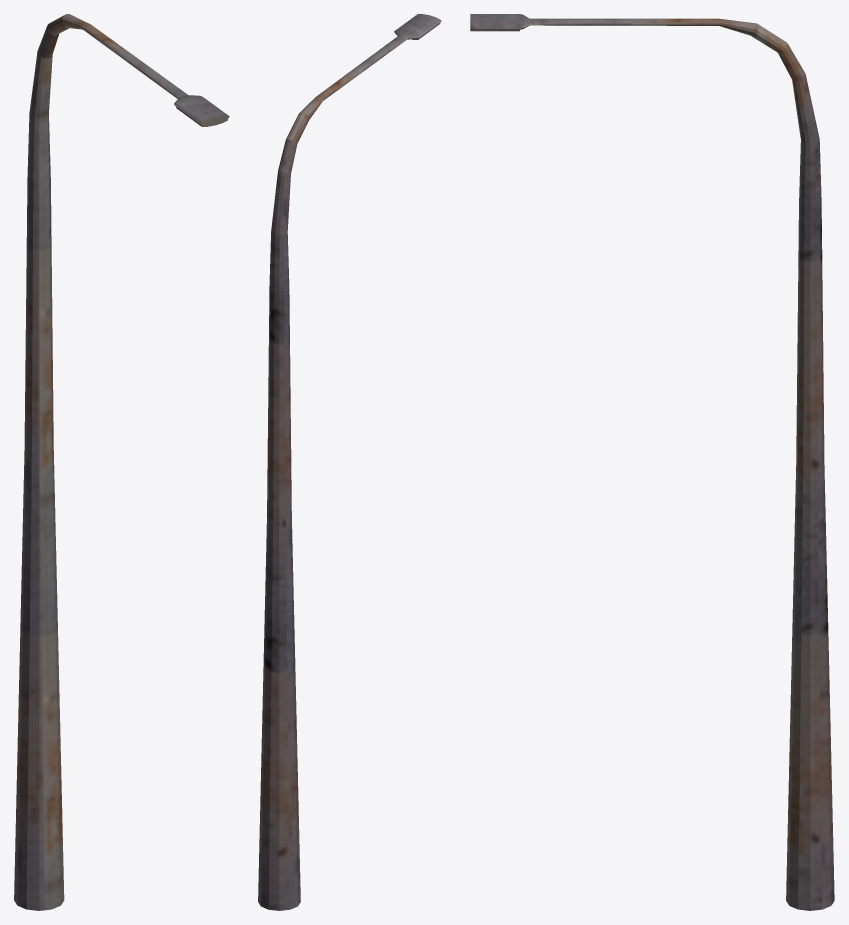
The model's file is postedeluz_sin_Cartel.fbx.
3 renders of one model, left to right at view 1: azimuth 30°, elevation 25°; view 2: azimuth 150°, elevation 25°; view 3: azimuth 270°, elevation 25°, orthographic. The views are drawn at different scales.
Parts seen in each view (by area): view 1: Farol_Calle.002; view 2: Farol_Calle.002; view 3: Farol_Calle.002.
Part boxes in pixels (box(x1,y1,x2,y2)): Farol_Calle.002: box(14, 14, 229, 910); Farol_Calle.002: box(258, 14, 441, 910); Farol_Calle.002: box(470, 14, 834, 910).
Size of the model in its own units: 342 by 6842 by 2560.
Materials: 1 (1 with a texture image).
